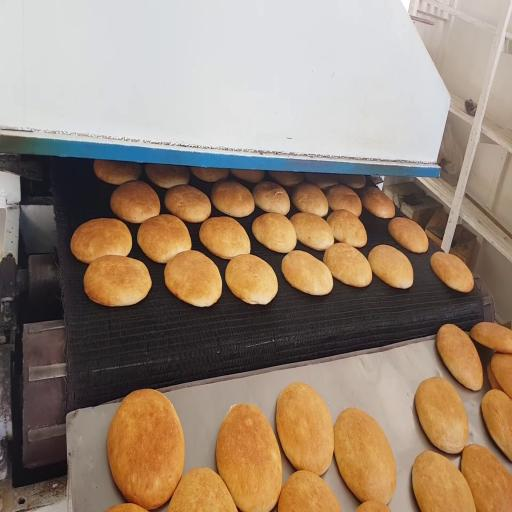bread: (107, 390, 184, 509), (216, 404, 282, 511), (335, 408, 396, 503), (276, 383, 334, 475), (415, 377, 469, 453), (412, 451, 475, 511), (84, 256, 151, 306), (461, 445, 511, 511), (165, 251, 222, 306), (437, 324, 483, 390), (168, 468, 236, 511), (71, 219, 131, 264), (137, 214, 191, 263), (278, 471, 341, 511), (226, 255, 277, 304), (282, 250, 333, 295), (199, 217, 250, 259), (324, 243, 372, 287), (482, 390, 511, 461), (111, 181, 160, 223), (368, 245, 413, 288), (252, 212, 296, 253), (165, 185, 211, 222), (431, 252, 473, 292), (291, 212, 334, 250), (211, 181, 254, 217), (327, 210, 367, 247), (388, 218, 428, 253), (470, 322, 511, 353), (292, 182, 328, 217), (253, 182, 290, 215), (94, 160, 141, 184), (326, 185, 361, 217), (145, 164, 189, 188), (362, 187, 395, 218), (491, 353, 511, 397), (191, 167, 229, 182), (305, 173, 338, 189), (269, 172, 303, 186), (231, 169, 264, 183), (487, 362, 502, 390), (338, 175, 366, 189), (356, 501, 391, 511), (106, 504, 146, 511)
